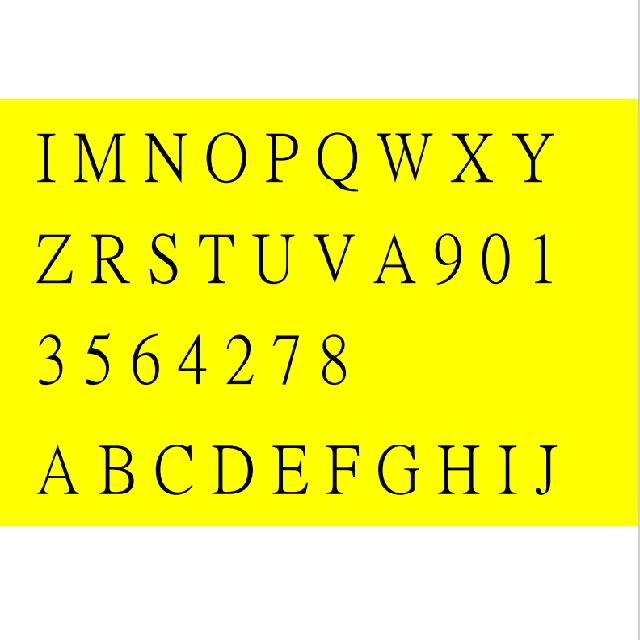0: (480, 226, 512, 292)
1: (534, 221, 558, 291)
2: (224, 321, 257, 392)
3: (36, 328, 64, 389)
4: (177, 329, 207, 390)
5: (81, 326, 110, 388)
6: (132, 328, 162, 389)
7: (274, 326, 301, 393)
8: (320, 329, 349, 391)
9: (431, 230, 463, 294)
A: (32, 440, 78, 501), (375, 230, 417, 292)
B: (96, 436, 138, 503)
C: (152, 434, 197, 499), (151, 442, 195, 498)
D: (211, 436, 254, 498)
E: (271, 436, 311, 501)
F: (328, 438, 364, 501)
G: (377, 442, 422, 498)
H: (438, 439, 483, 503)
I: (29, 128, 63, 190)
J: (536, 431, 561, 498), (495, 432, 518, 498)
M: (68, 126, 120, 187)
N: (142, 128, 187, 188)
O: (205, 130, 247, 184)
P: (263, 127, 298, 189)
Q: (317, 130, 362, 198)
R: (91, 228, 132, 292)
S: (148, 228, 185, 290)
T: (197, 226, 236, 289)
U: (253, 229, 296, 291)
V: (313, 227, 357, 289)
W: (381, 127, 435, 187)
X: (448, 124, 492, 188)
Y: (513, 126, 554, 186)
Z: (35, 224, 76, 286)
